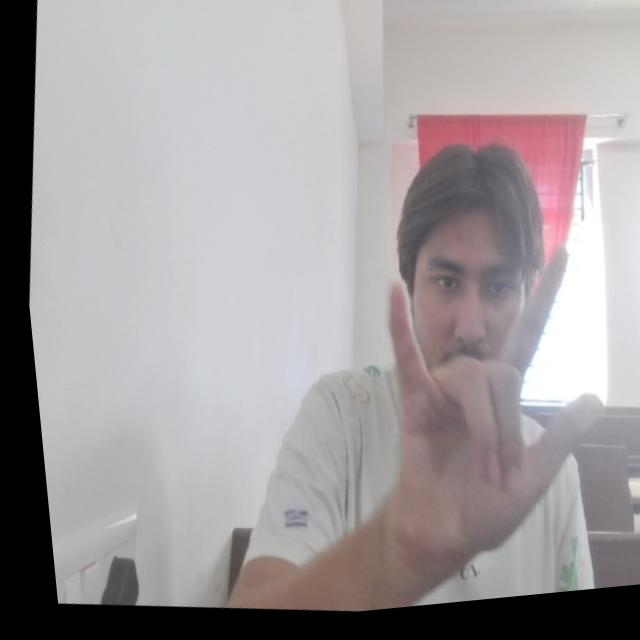iloveyou: (340, 227, 627, 591)
